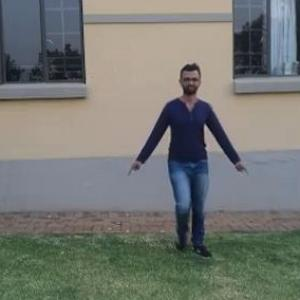land: (129, 71, 248, 251)
